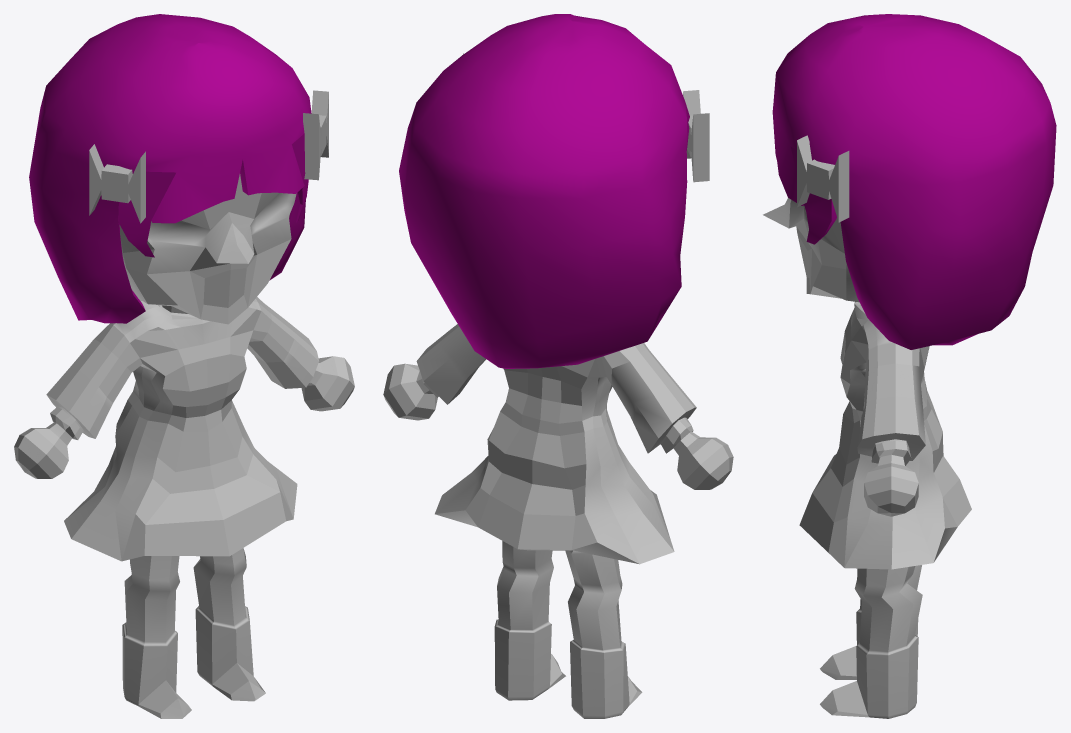
File: Ghost or friend low poly.fbx
3 views of the same model, side by side, from view 1: azimuth 30°, elevation 25°; view 2: azimuth 150°, elevation 25°; view 3: azimuth 270°, elevation 25° (orthographic). The views are drawn at different scales.
Visible parts, largest first — view 1: Mourn_body, Hair, pCube1, pCube2; view 2: Hair, Mourn_body, pCube1; view 3: Hair, Mourn_body, pCube2.
Part boxes in pixels (x1,y1,x2,y2): Mourn_body: [14, 174, 354, 718]; Hair: [29, 14, 311, 323]; pCube1: [89, 144, 145, 223]; pCube2: [303, 90, 328, 180]; Hair: [399, 14, 689, 368]; Mourn_body: [383, 324, 733, 718]; pCube1: [683, 90, 709, 182]; Hair: [772, 14, 1056, 349]; Mourn_body: [763, 198, 971, 718]; pCube2: [797, 135, 849, 222].
Bounding box in the file's own units: 2.68 × 5.04 × 2.02.
